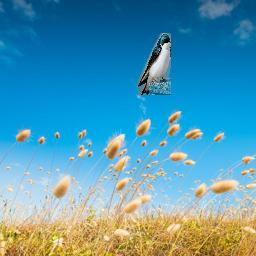Swallow: (137, 33, 171, 95)
